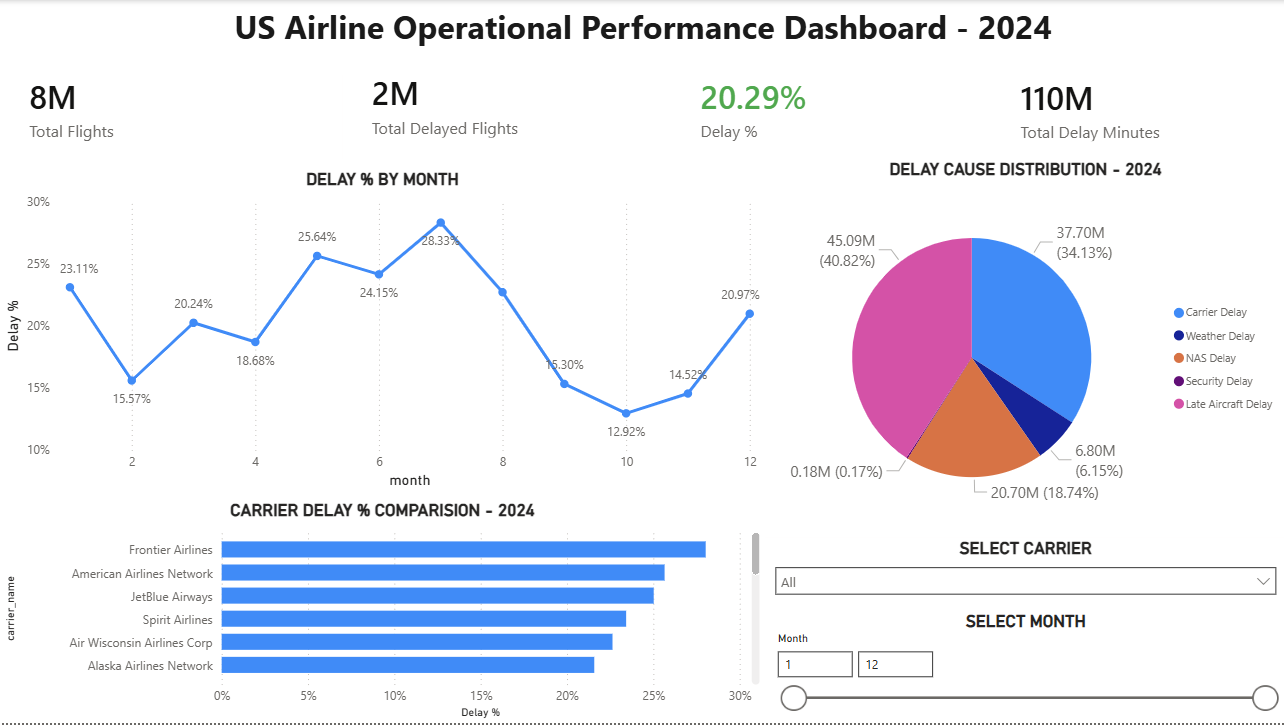

The page's visual inventory and layout, read from the dashboard file:
{"tool":"powerbi","page":{"name":"Page 1","canvas":[1280,720],"ordinal":0},"visuals":[{"type":"cardVisual","fields":{"Data":["airline_project airline_delay_cause.Total Flights"]},"box":[0,57.2,340.8,100.8],"z":0},{"type":"cardVisual","fields":{"Data":["airline_project airline_delay_cause.Total Delayed Flights"]},"box":[340.8,49.8,327.2,108.2],"z":1000},{"type":"cardVisual","fields":{"Data":["airline_project airline_delay_cause.Delay %"]},"box":[668,57.2,318.5,100.8],"z":2000},{"type":"cardVisual","fields":{"Data":["airline_project airline_delay_cause.Total Delay Minutes"]},"box":[986.5,58.5,293.6,99.5],"z":3000},{"type":"lineChart","title":"DELAY % BY MONTH","fields":{"Category":["airline_project airline_delay_cause.month"],"Y":["airline_project airline_delay_cause.Delay %"]},"box":[0,167.9,761.3,323.4],"z":4000},{"type":"pieChart","title":"DELAY CAUSE DISTRIBUTION - 2024","fields":{"Y":["Sum(airline_project airline_delay_cause.carrier_delay)","Sum(airline_project airline_delay_cause.weather_delay)","Sum(airline_project airline_delay_cause.nas_delay)","Sum(airline_project airline_delay_cause.security_delay)","airline_project airline_delay_cause.Late Aircraft Delay"]},"box":[761.3,158,518.7,376.9],"z":5000},{"type":"clusteredBarChart","title":"CARRIER DELAY % COMPARISION - 2024","fields":{"Category":["airline_project airline_delay_cause.carrier_name"],"Y":["airline_project airline_delay_cause.Delay %"]},"box":[0,497.6,761.3,222.7],"z":6000},{"type":"slicer","title":"SELECT CARRIER","fields":{"Values":["airline_project airline_delay_cause.carrier_name"]},"box":[761.2,534.5,518.8,74.1],"z":7000},{"type":"slicer","title":"SELECT MONTH","fields":{"Values":["airline_project airline_delay_cause.month"]},"box":[761.2,608.6,518.8,111.2],"z":8000},{"type":"textbox","box":[0,0,1280,74.6],"z":8001}]}

Visuals, with their boxes in screenshot pixels (x1, y1, x2, y2), scaled from the page's 1280x720 canvas onto the 1284x726 screenshot:
cardVisual - airline_project airline_delay_cause.Total Flights: region(0, 58, 342, 159)
cardVisual - airline_project airline_delay_cause.Total Delayed Flights: region(342, 50, 670, 159)
cardVisual - airline_project airline_delay_cause.Delay %: region(670, 58, 990, 159)
cardVisual - airline_project airline_delay_cause.Total Delay Minutes: region(990, 59, 1283, 159)
"DELAY % BY MONTH" lineChart: region(0, 169, 764, 495)
"DELAY CAUSE DISTRIBUTION - 2024" pieChart: region(764, 159, 1283, 539)
"CARRIER DELAY % COMPARISION - 2024" clusteredBarChart: region(0, 502, 764, 725)
"SELECT CARRIER" slicer: region(764, 539, 1283, 614)
"SELECT MONTH" slicer: region(764, 614, 1283, 725)
textbox: region(0, 0, 1283, 75)
